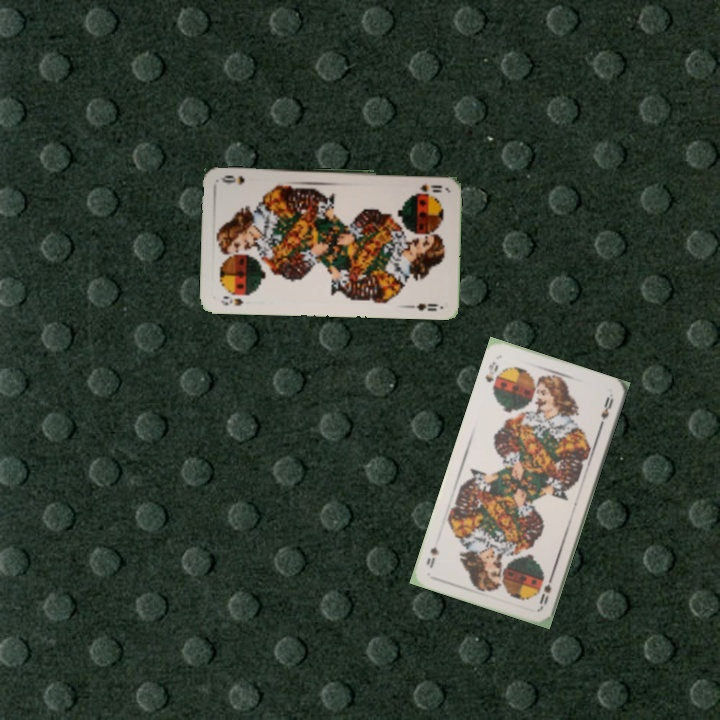SO: (535, 570, 556, 610), (481, 357, 502, 395), (217, 292, 245, 308), (415, 181, 445, 194)
